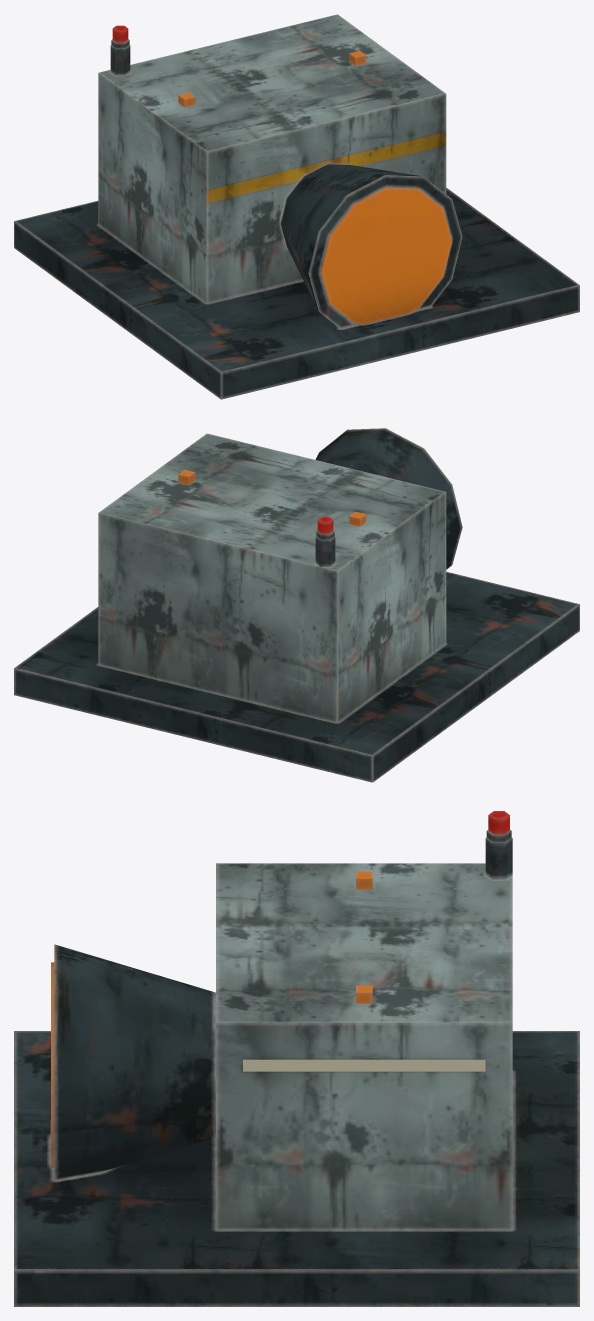
File: chemical_thruster.glb
The picture shows the model from 3 angles, top to bottom: view 1: azimuth 30°, elevation 25°; view 2: azimuth 150°, elevation 25°; view 3: azimuth 270°, elevation 25°; orthographic projection. The views are drawn at different scales.
Parts seen in each view (by area): view 1: te_chemical_thruster; view 2: te_chemical_thruster; view 3: te_chemical_thruster.
Boxes of the visible parts, x1,y1,x2,y2 form: te_chemical_thruster: (14, 14, 579, 399); te_chemical_thruster: (14, 428, 579, 782); te_chemical_thruster: (14, 811, 579, 1306).
Bounding box in the file's own units: 0.84 × 0.4976 × 0.84.
1 material, 1 textured.
